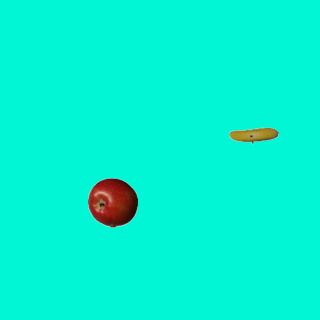Apple Braeburn: (87, 177, 137, 227)
Banana: (228, 110, 278, 160)
